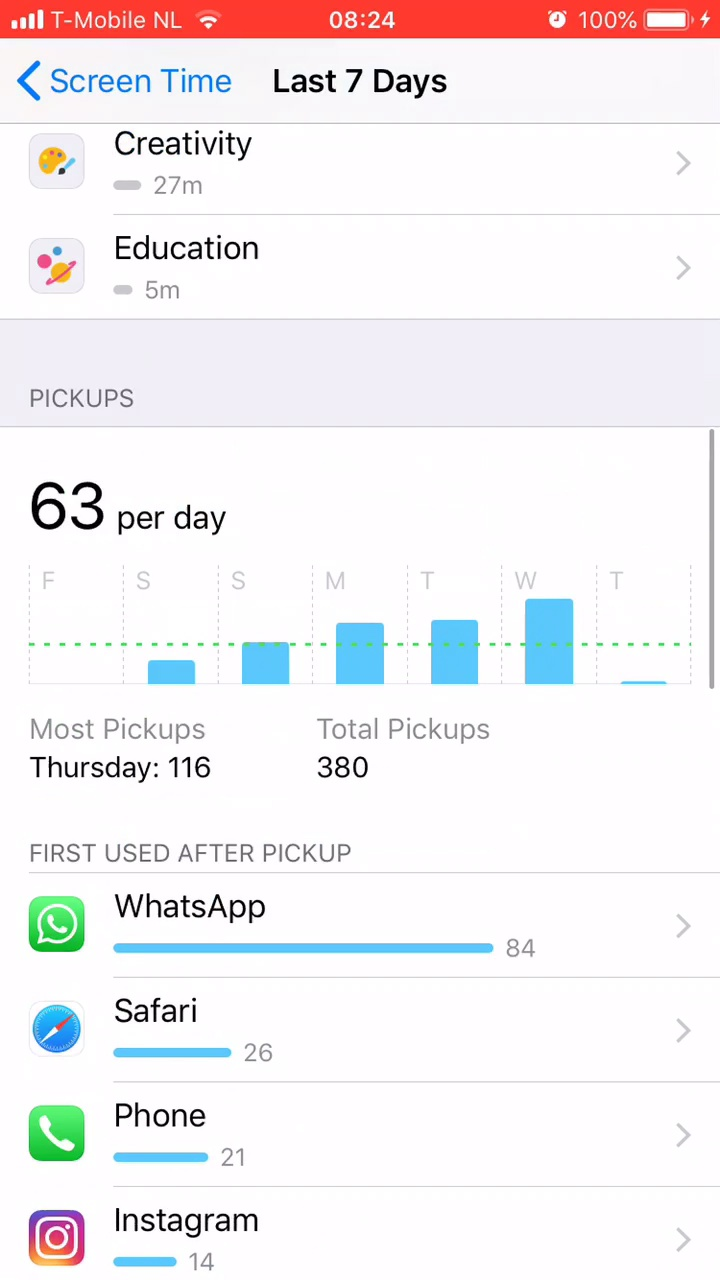pick_app: (21, 874, 566, 975), (20, 981, 313, 1083), (18, 1083, 268, 1182), (14, 1193, 299, 1275)
pick_over: (18, 700, 568, 813)
week: (264, 60, 462, 103)
